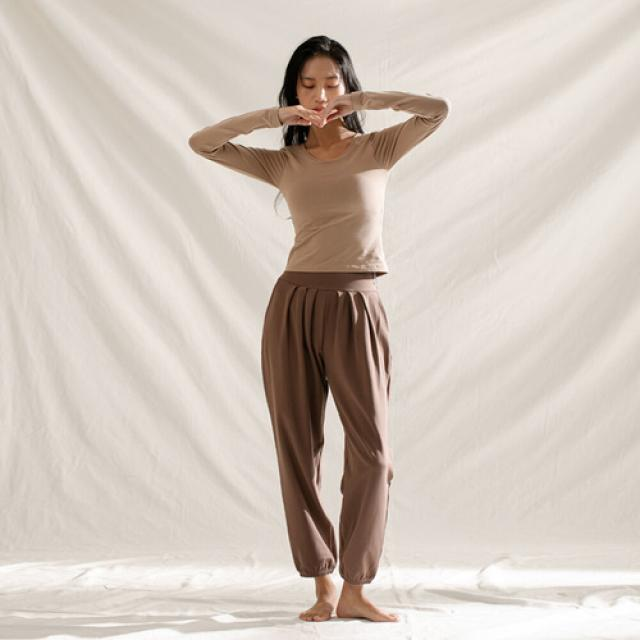dress: (194, 87, 446, 273), (263, 268, 394, 592)
